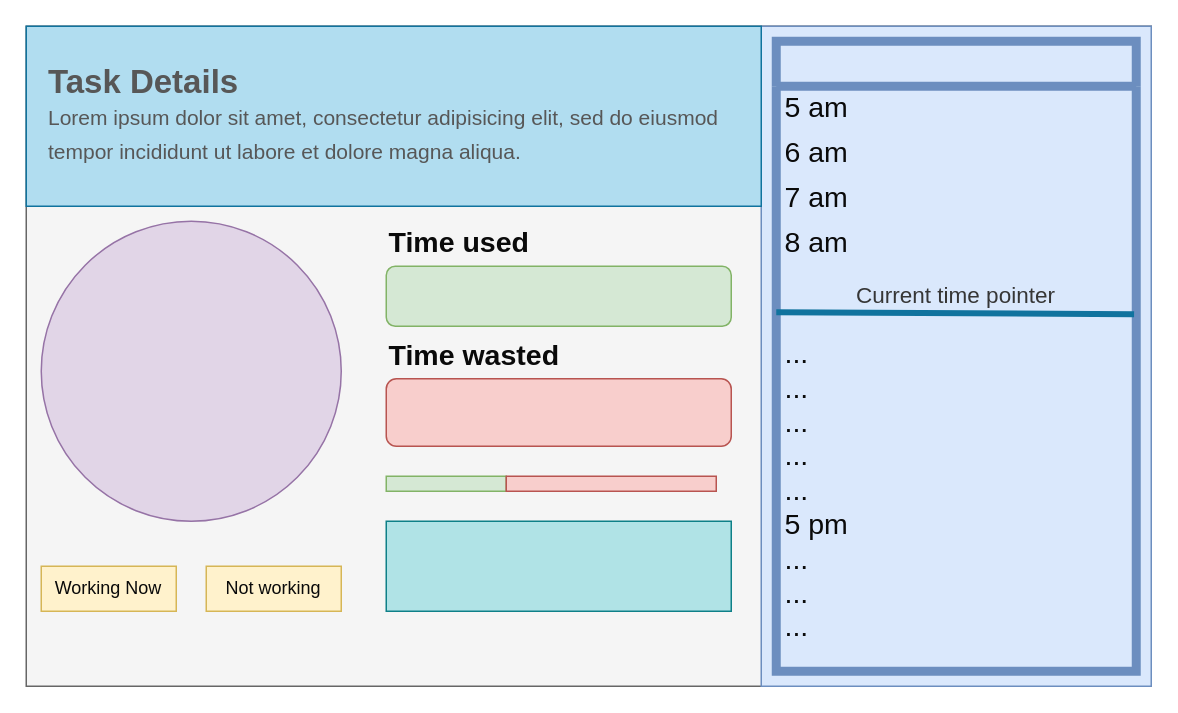
Image size: 1178x713. Some labels were removed from this diagram. Each missing label, with the box of its shape:
Clock display: (385, 520, 731, 611)
Time Sheet: (771, 36, 1140, 675)
